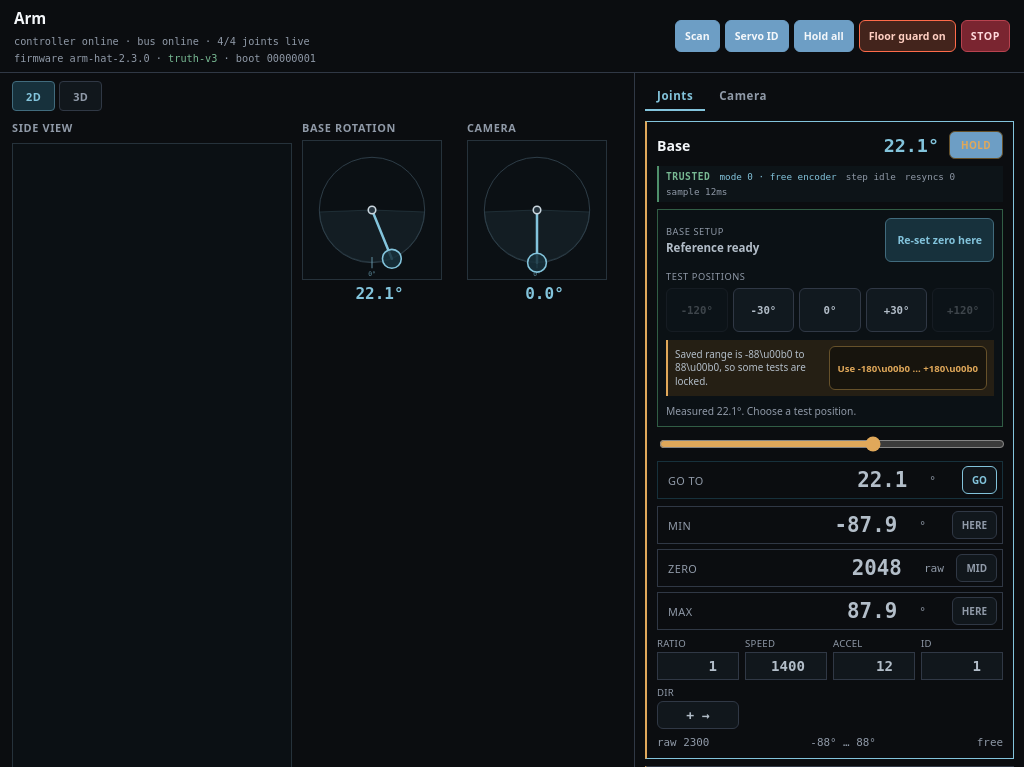
Test: SimpleArm › shows Module 3 Wide capability metadata and labels its field of view nominal
Expected: the text "Base" is shown, [657,136,690,154]
Click the tab "Camera" at (743, 96), box [707,81,779,111]
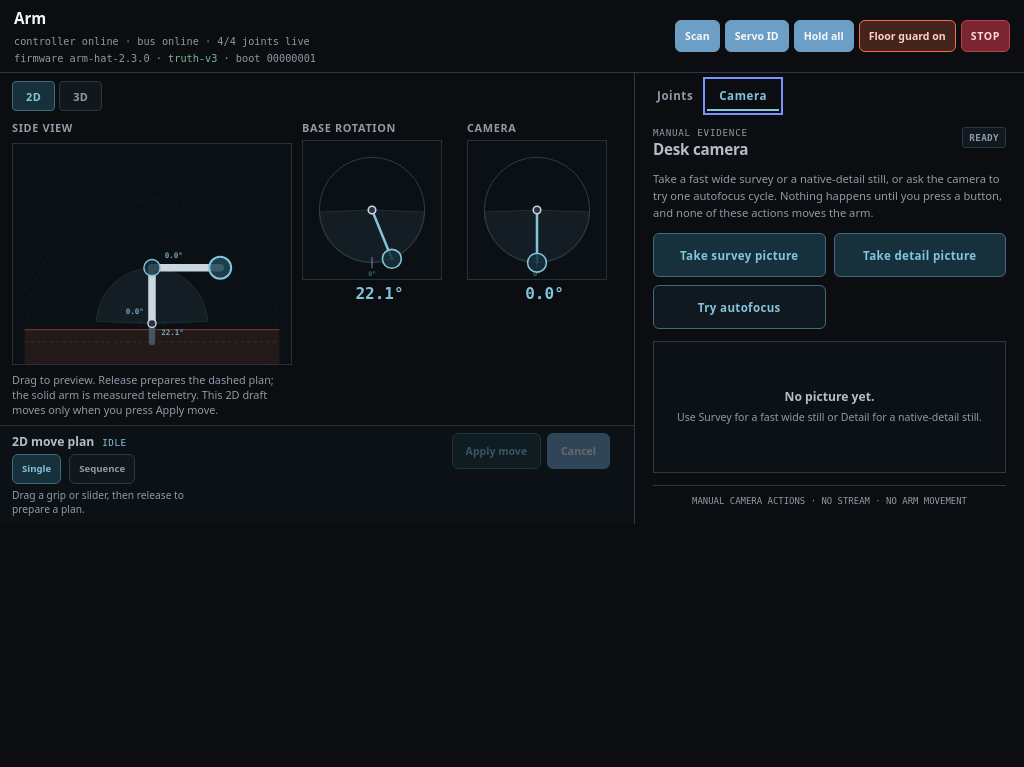
Click the button "Take detail picture" at (920, 255), box [834,233,1006,277]
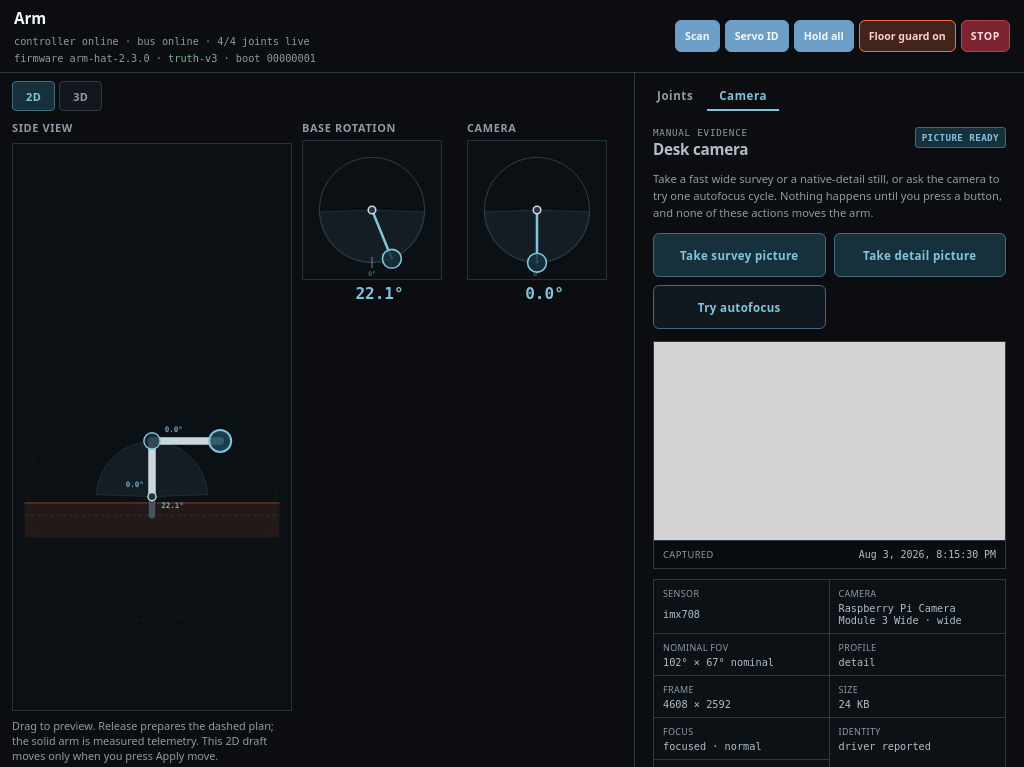
Result: the text "Raspberry Pi Camera Module 3 Wide · wide" is shown at [838,602,962,626]
Result: the text "102° × 67° nominal" is shown at [663,656,774,668]
Result: the text "focused · normal" is shown at [663,740,762,752]
